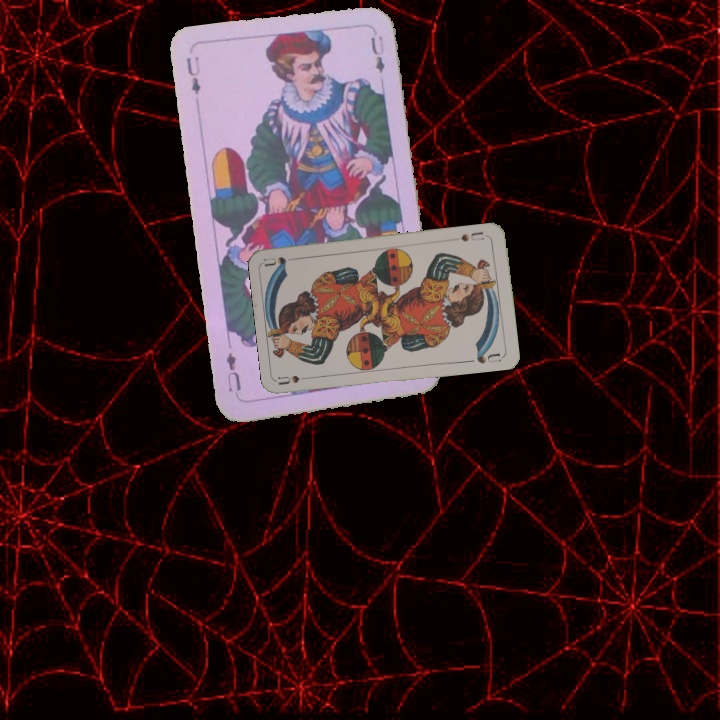EU: (182, 52, 203, 97)
SU: (275, 371, 316, 387), (457, 228, 490, 244)
